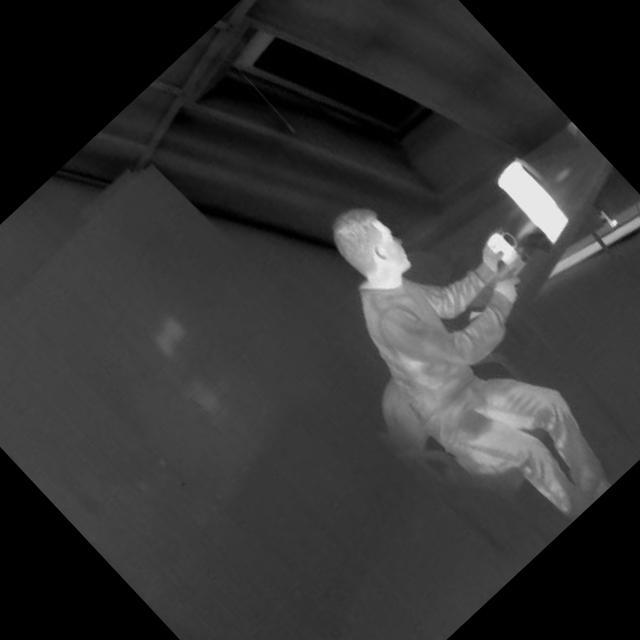person: (249, 135, 640, 578)
